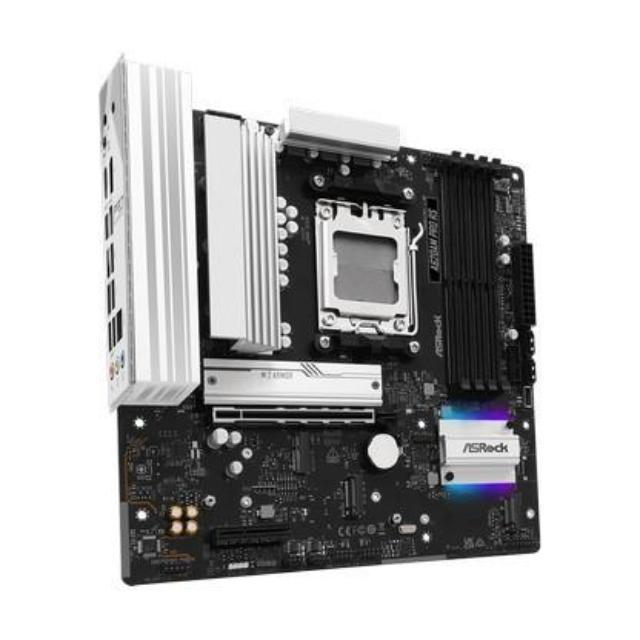Mainboard: (87, 52, 553, 586)
